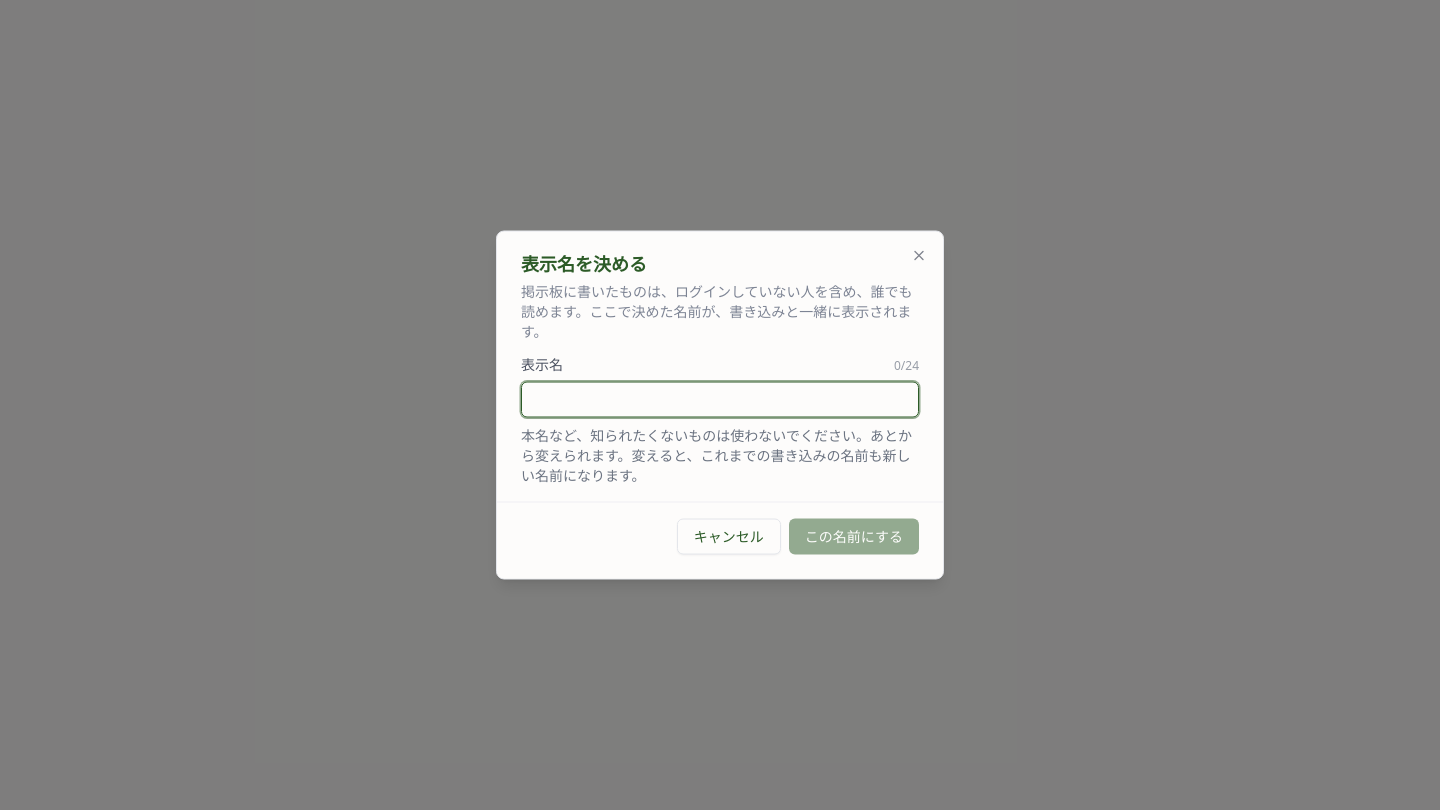
Test: NameDialog — 記名式であることを伝える（D-BOARD-SIGNED） › 公開範囲の断りは、入力の指摘が出ているあいだも消えない
Type "運営" into the field labelled "表示名" at (720,400), box left=521, top=382, right=919, bottom=418
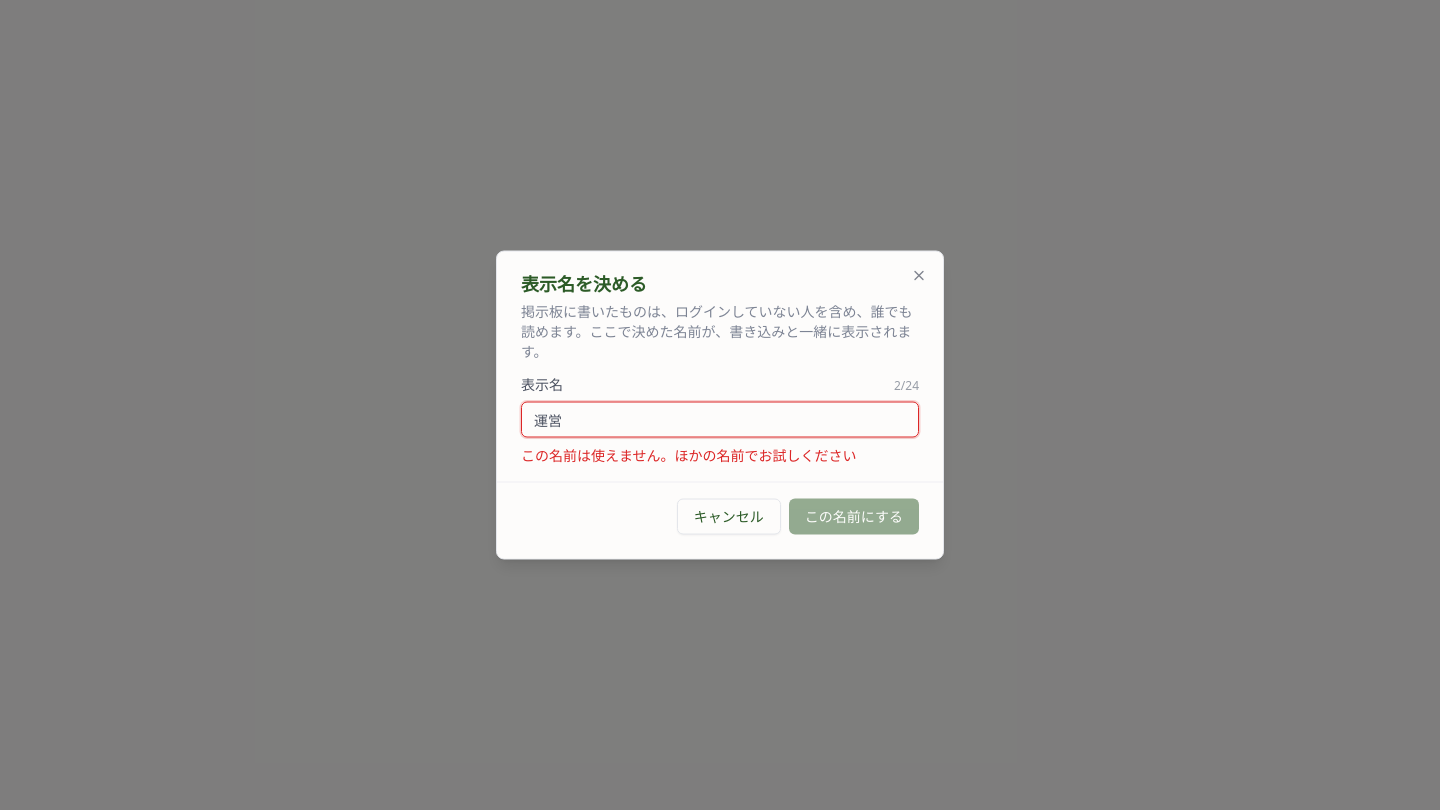
Expected: the text "ログインしていない人を含め、誰でも読めます" is shown, left=521, top=302, right=913, bottom=360
Now the message "この名前は使えません。ほかの名前でお試しください" is shown, box left=521, top=446, right=857, bottom=464
